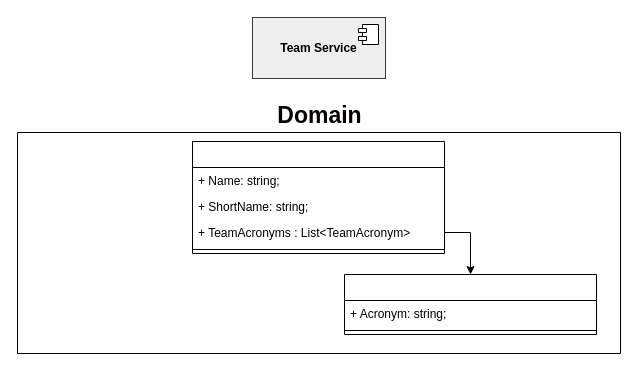
This 638x371 diagram has some shape labels left out. The box of each missing label's shape, as (x1, y1, x2, y2) in pixels:
Team : AggregateRoot: (192, 140, 444, 254)
TeamAcronym : Entity: (344, 274, 596, 334)
